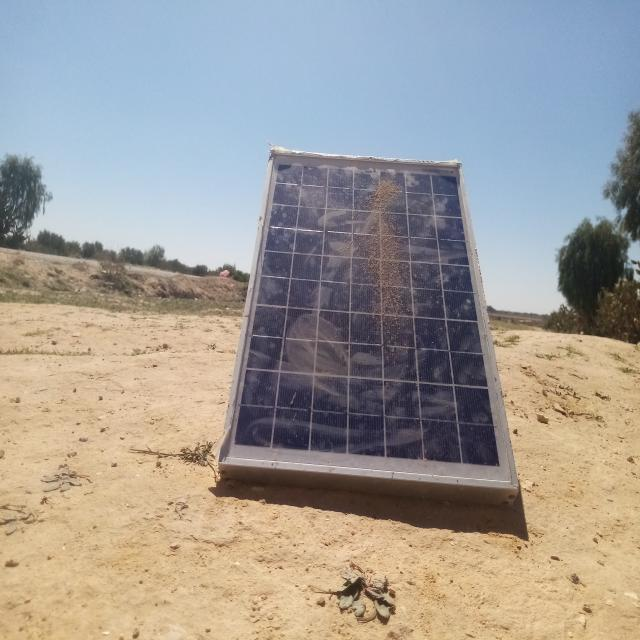faulty: (224, 150, 519, 489)
